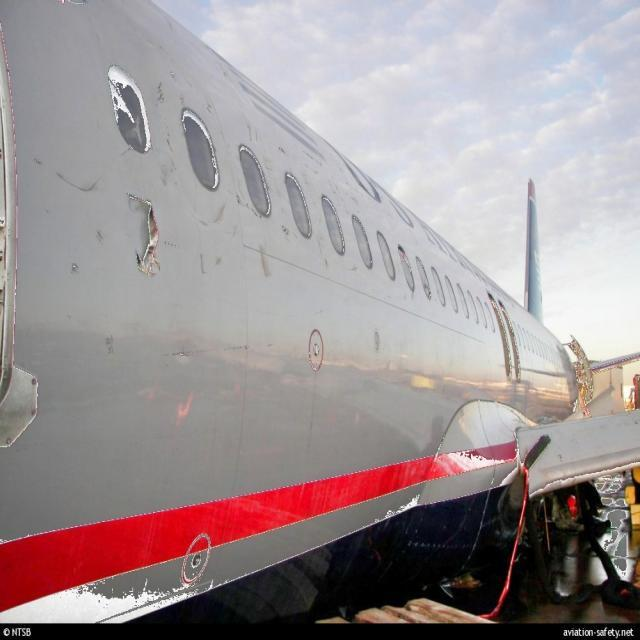crack: (125, 187, 169, 283)
